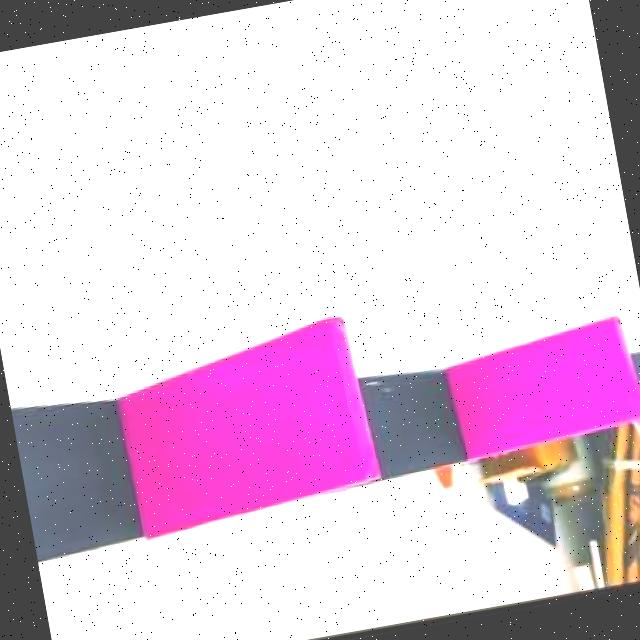xparking: (112, 326, 374, 520), (451, 315, 640, 450)
